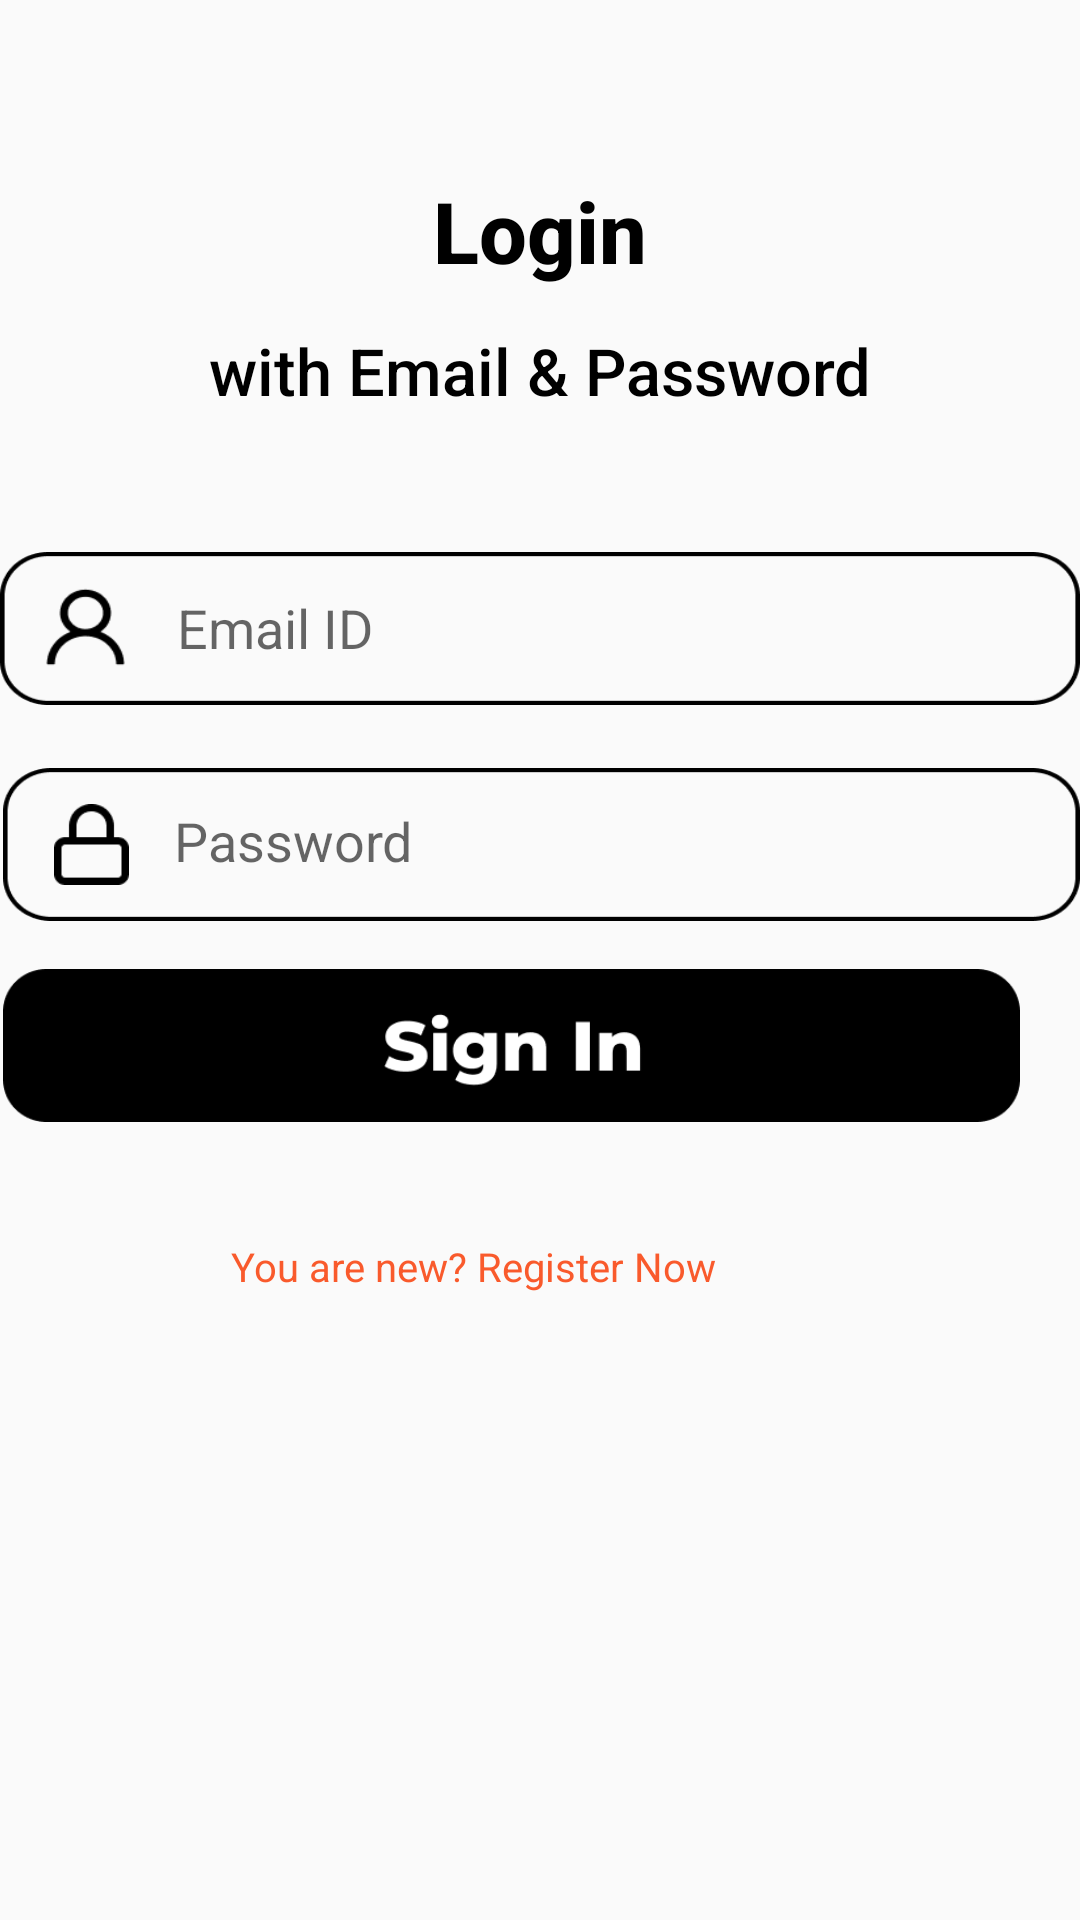

Icons on this 1080 × 1920 Android screen, each with its box as (x1, y1, x2, y2):
user: (46, 589, 125, 665)
